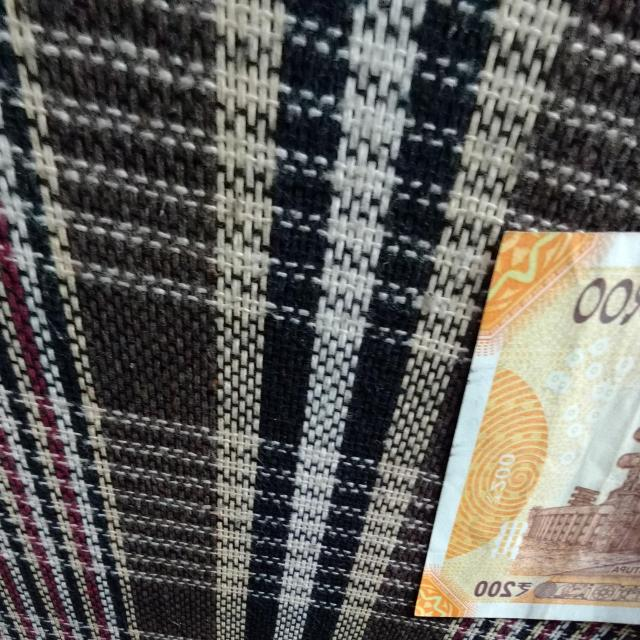Currency: (472, 246, 640, 614)
